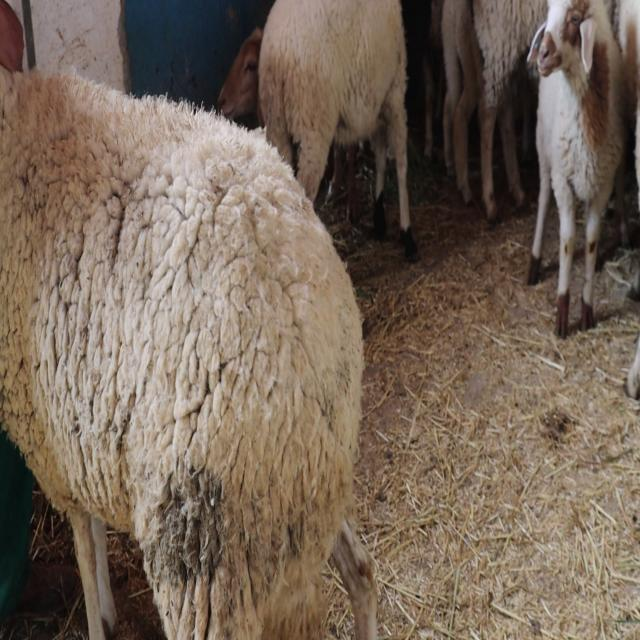Score_4: (0, 66, 377, 639)
